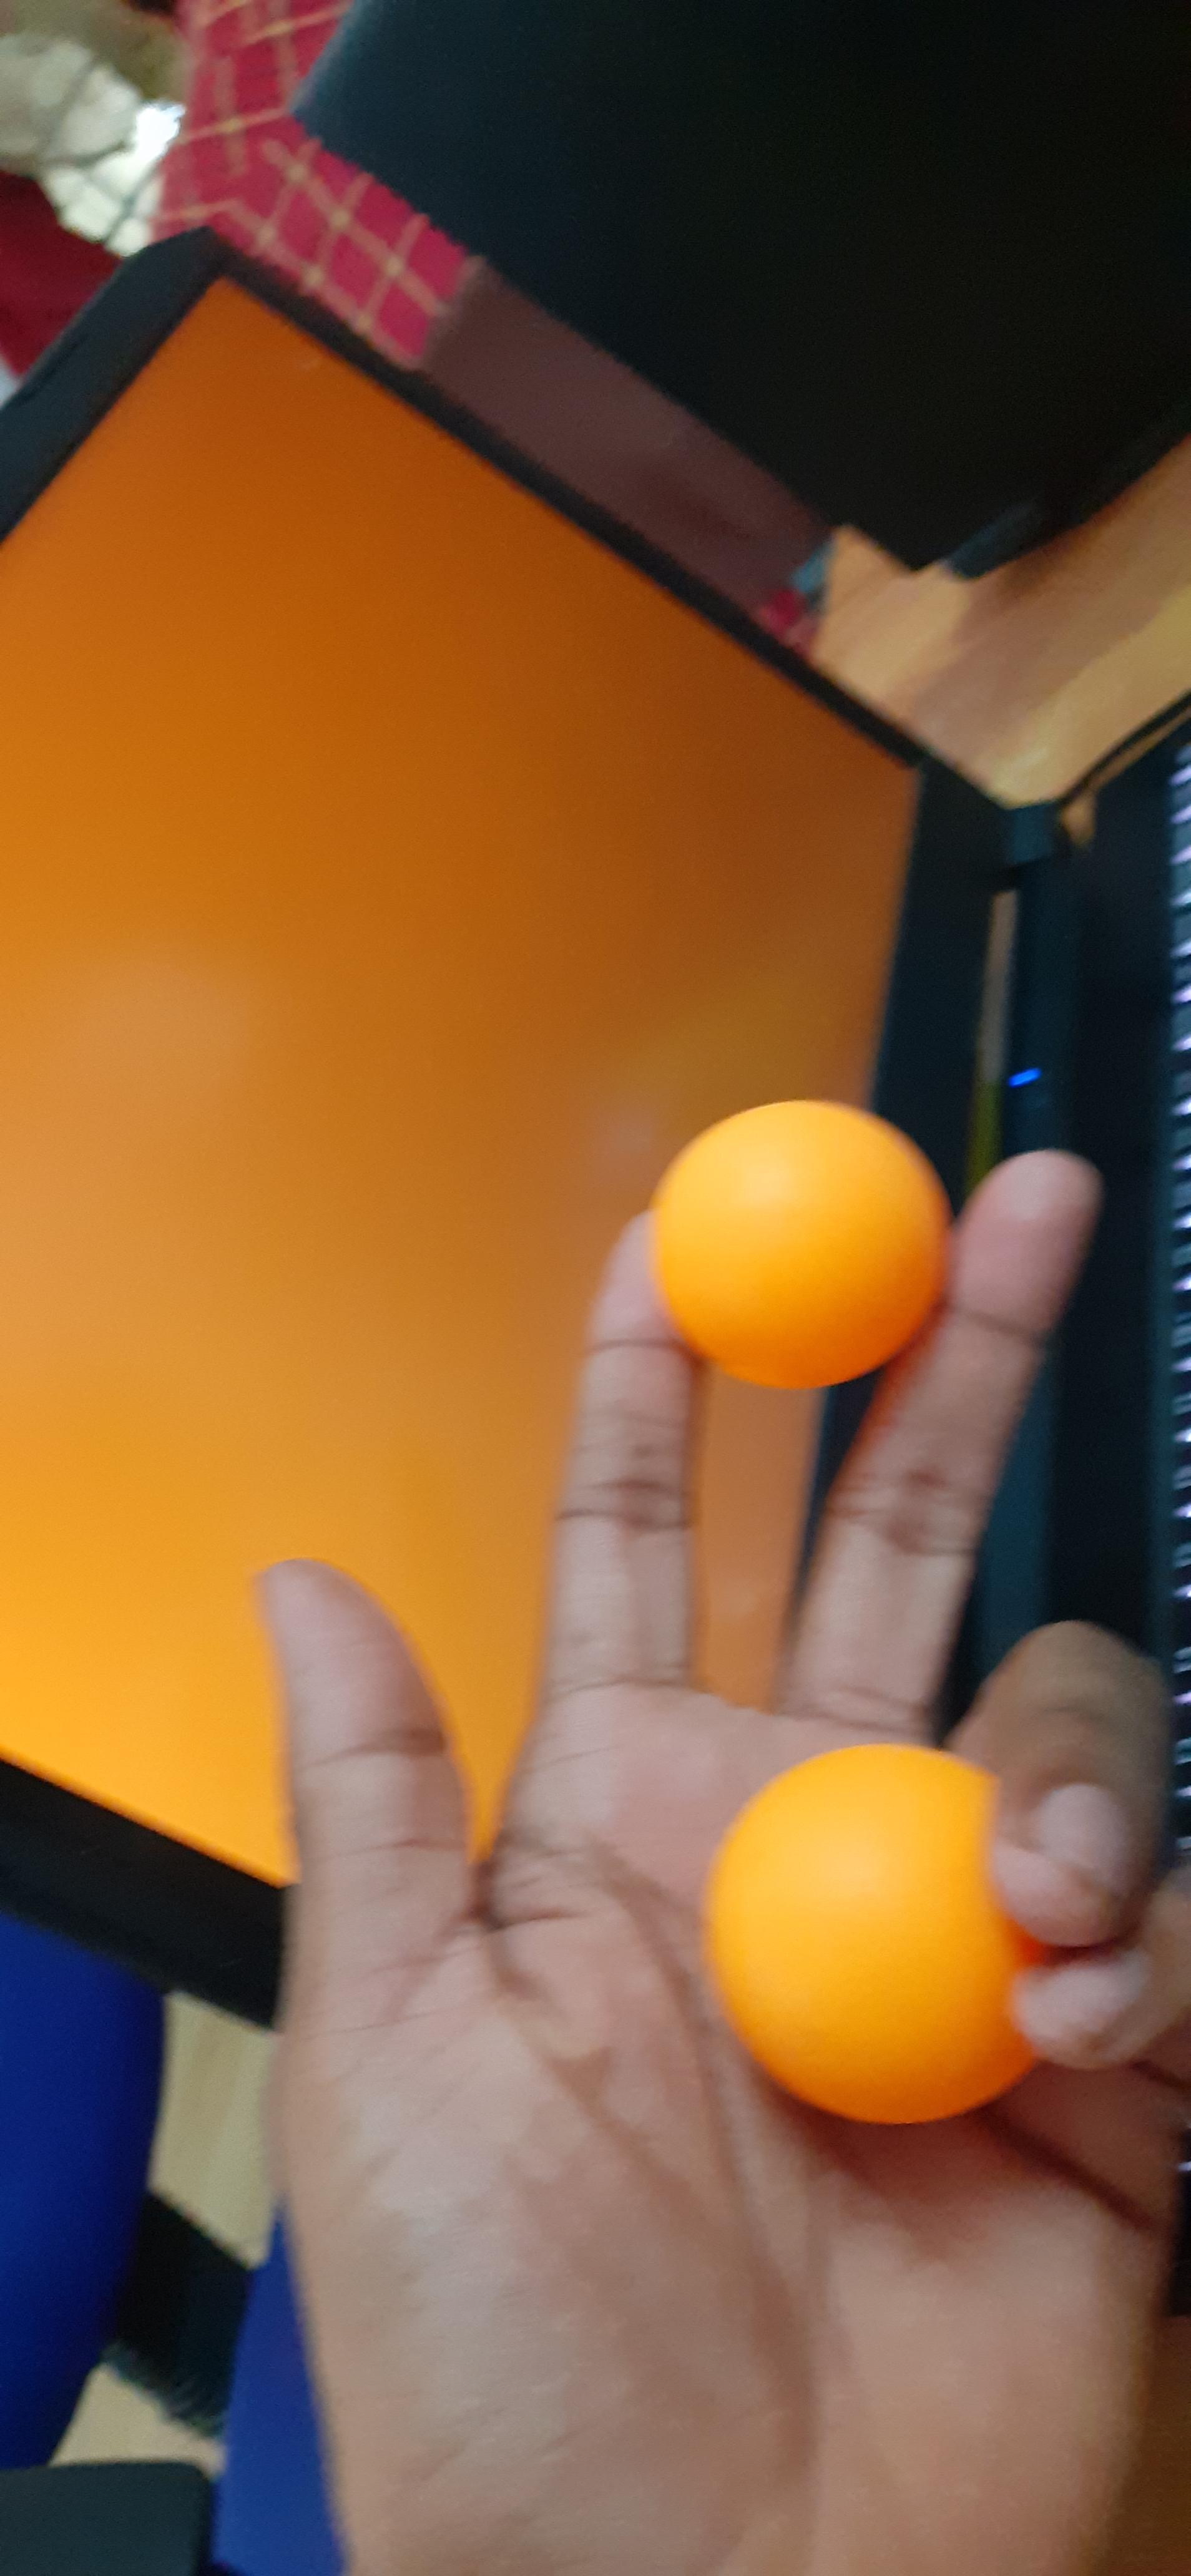orange: (702, 1735, 1036, 2132), (667, 1093, 963, 1388)
